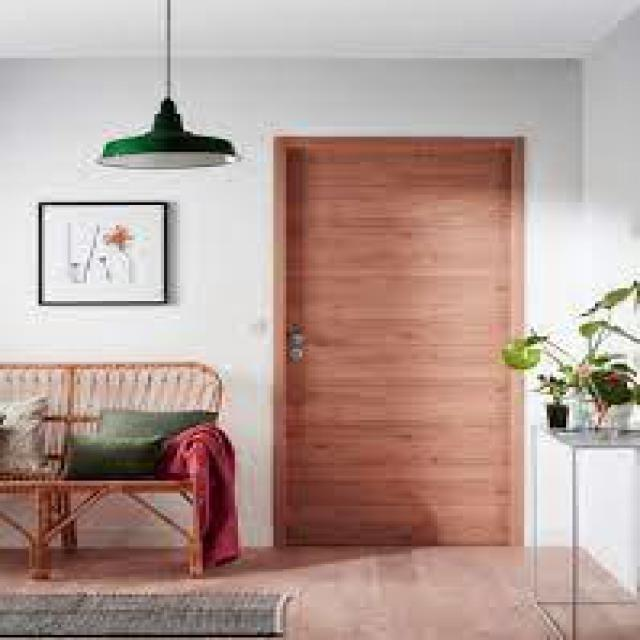door: (272, 133, 524, 548)
